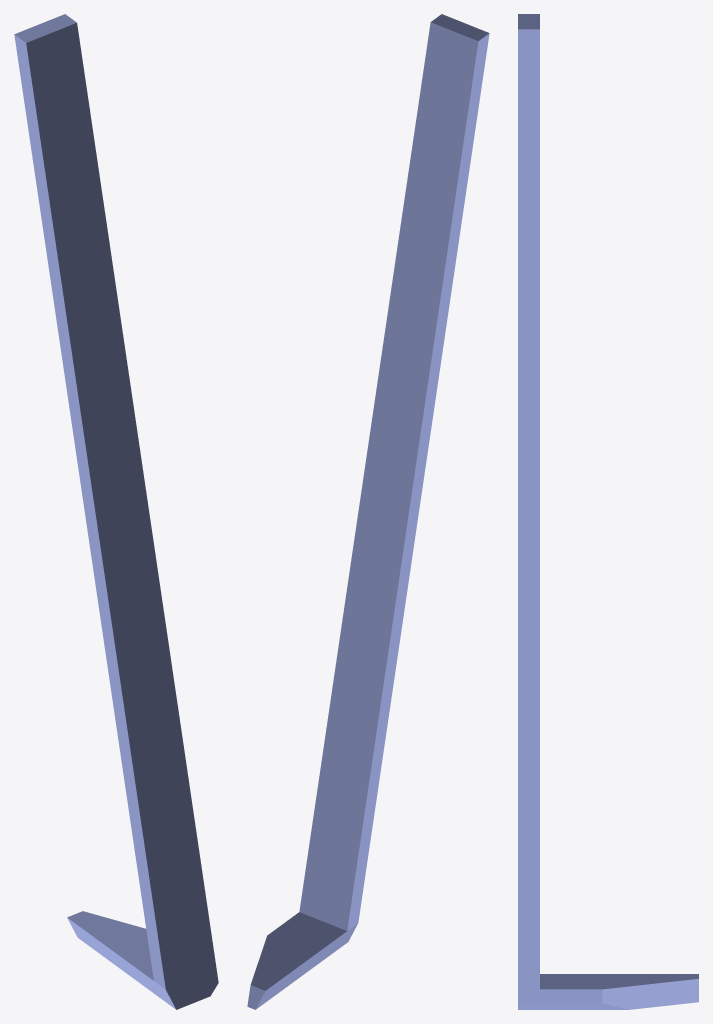
Rendered from Copie de piece gauche 1^Copie de Ass piece plan 2_Horloge Comtoise Verge - Sonnerie.obj.
The picture shows the model from 3 angles, left to right: view 1: azimuth 30°, elevation 25°; view 2: azimuth 150°, elevation 25°; view 3: azimuth 270°, elevation 25°; orthographic projection. The views are drawn at different scales.
Visible parts, largest first — view 1: Face_1, Face_2, Face_9, Face_3, Face_6; view 2: Face_7, Face_2, Face_9, Face_3, Face_6; view 3: Face_5, Face_10, Face_9, Face_11.
Part boxes in pixels (bbox=[...]): Face_1: bbox=[26, 23, 218, 1009]; Face_2: bbox=[14, 34, 165, 989]; Face_9: bbox=[67, 911, 153, 980]; Face_3: bbox=[67, 918, 175, 1009]; Face_6: bbox=[14, 14, 76, 42]; Face_7: bbox=[299, 22, 478, 930]; Face_2: bbox=[347, 33, 489, 930]; Face_9: bbox=[250, 912, 346, 990]; Face_3: bbox=[256, 923, 357, 1009]; Face_6: bbox=[431, 14, 489, 41]; Face_5: bbox=[518, 29, 602, 1002]; Face_10: bbox=[602, 979, 698, 1009]; Face_9: bbox=[540, 974, 698, 989]; Face_11: bbox=[518, 1003, 627, 1009].
Bounding box in the file's own units: 0.015 × 0.0751 × 0.0133.
